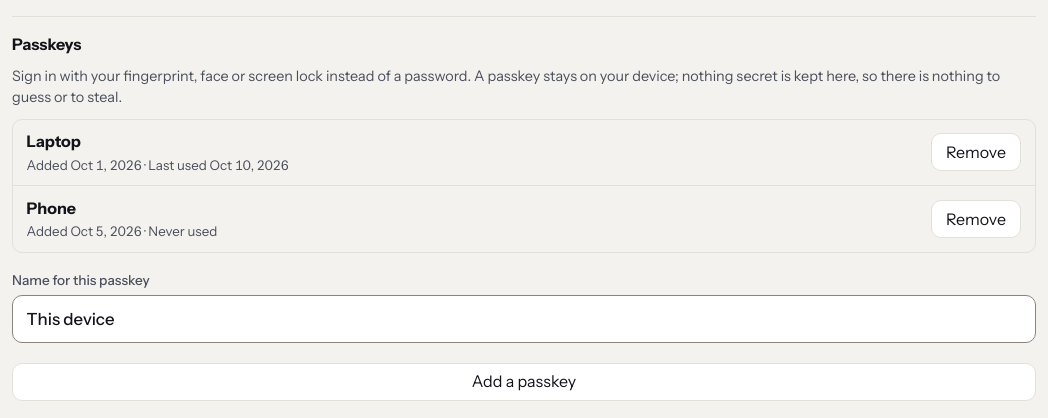
Test: PasskeysComponent › removes a passkey and no longer lists it
The image size is (1048, 418).
Click the button with aria-label "Remove Laptop".
click(976, 152)  # box [930,133,1021,171]
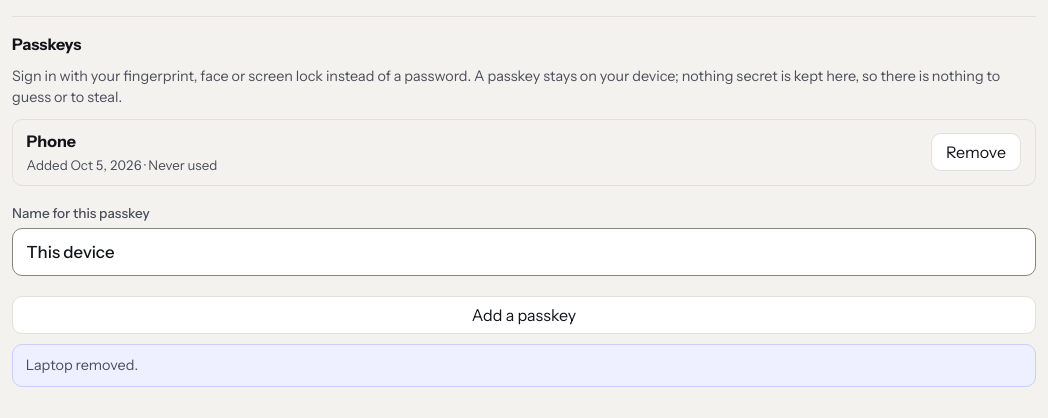
expect the text "Laptop removed." is shown: met, box [12,344,1036,387]
